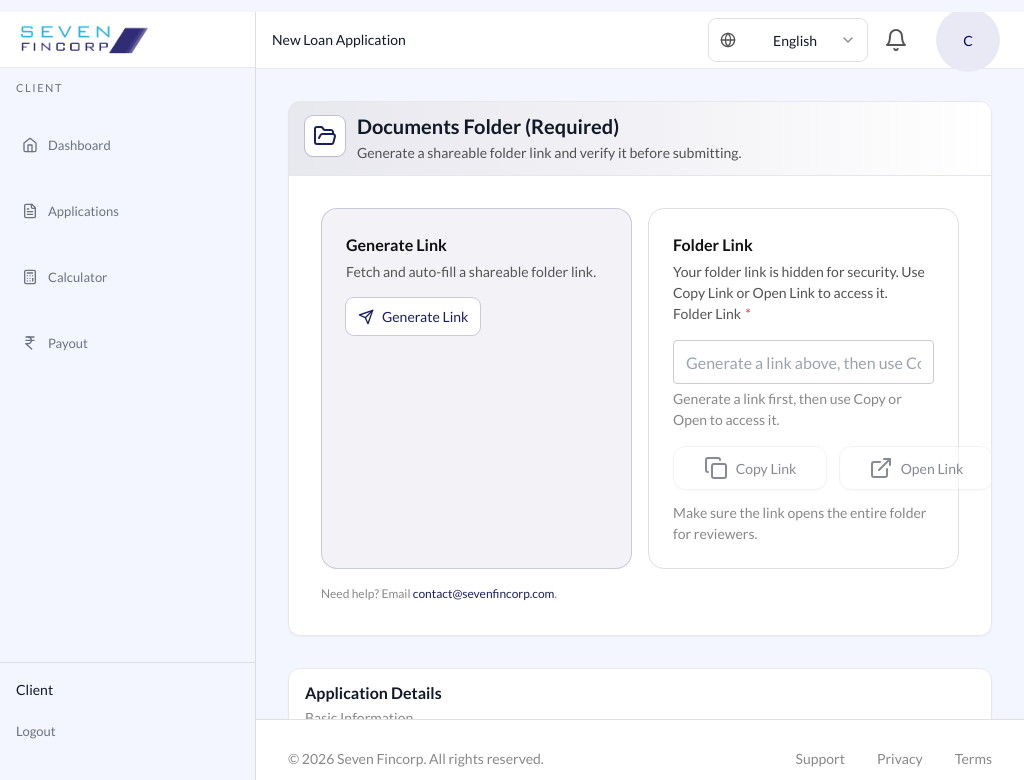
NewApplication Page - P0 Tests › Documents folder link generation › selects the first link after rows marked YES without consuming it on generate
This screenshot has width=1024, height=780.
Click the button with test id "generate-link-button": [396, 244] box x1=321 y1=208 x2=632 y2=569
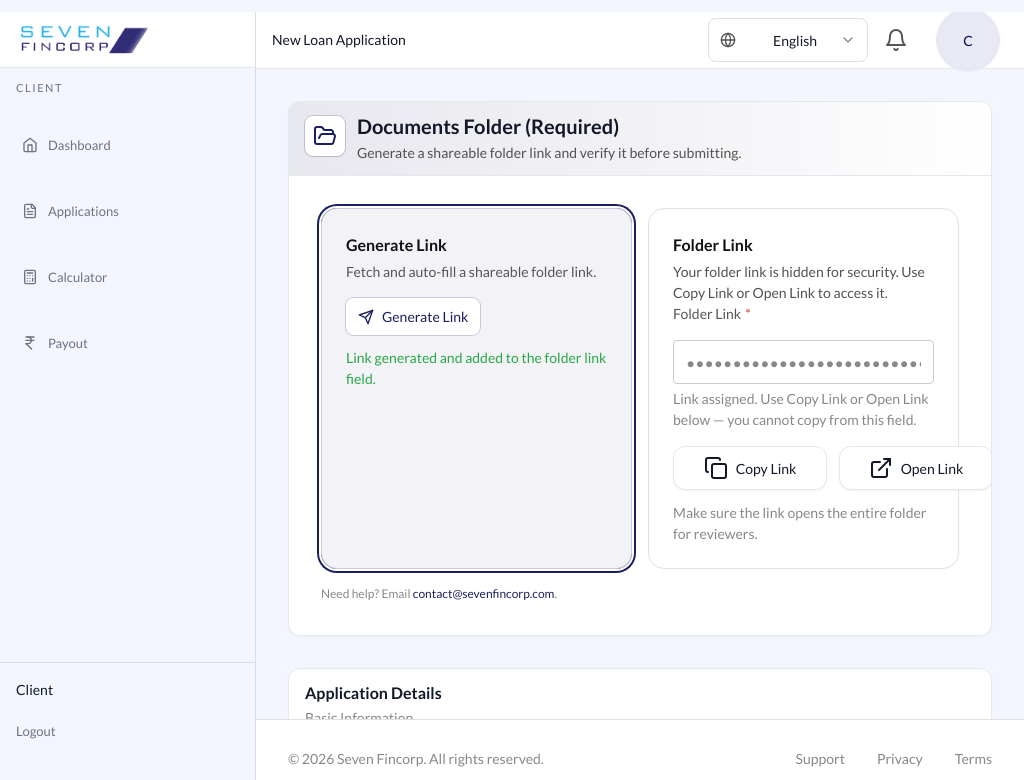
Now the field with id "_documentsFolderLink" holds "••••••••••••••••••••••••••••••••", box x1=673 y1=340 x2=934 y2=384
